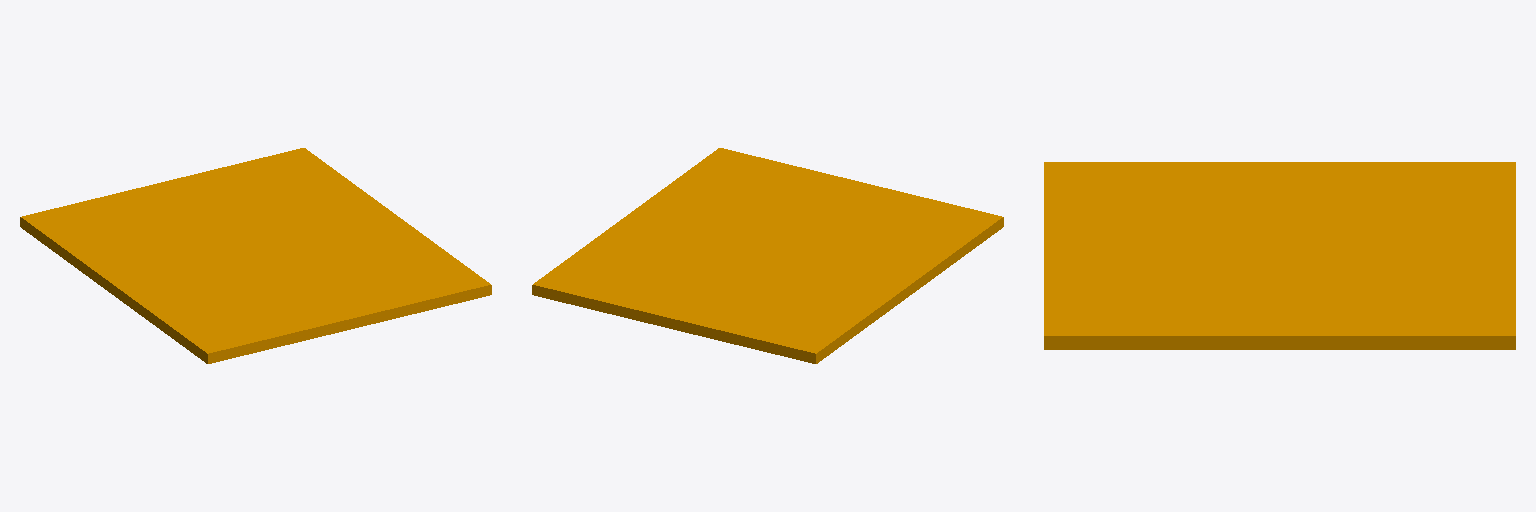
URDF robot description (table):
<robot name="table">
  <link name="table">

    <!-- rosrun gazebo_ros spawn_model -file $(rospack find ur5_single_arm_tufts)/urdf/objects/table.urdf -urdf -x 0.5 -y -0 -z 0.75 -model table -->
    
    <inertial>
      <origin xyz="0.23 0 0.755" rpy="0 0 0" />
      <mass value="1"/>
      <inertia
        ixx="0.07" ixy="0.0" ixz="0.0"
        iyy="0.40" iyz="0.0"
        izz="0.33"/>
    </inertial>

    <visual>
      <geometry>
        <box size="1.4 1.6 0.05"/>
      </geometry>
    </visual>

    <collision>
      <geometry>
        <box size="1.4 1.6 0.05"/>
      </geometry>
    </collision>

  </link>

  <gazebo reference="table">
    <material>Gazebo/Wood</material>
  </gazebo> 

  <gazebo>
    <static>true</static>
  </gazebo>

</robot>

--- Facts derived from the render (not from the file) ---
The picture shows the robot from 3 angles, left to right: view 1: azimuth 30°, elevation 25°; view 2: azimuth 150°, elevation 25°; view 3: azimuth 270°, elevation 25°; orthographic projection.
Model table with 1 links and 0 joints (none), rooted at table, posed all joints at 0.
Visible links, largest first — view 1: table; view 2: table; view 3: table.
Boxes of the visible links, box(x1,y1,x2,y2) form: table: box(20, 148, 491, 363); table: box(532, 148, 1003, 363); table: box(1044, 162, 1515, 349).
Bounding box of the posed robot: 1.4 × 1.6 × 0.05 m (x, y, z).
Geometry: primitives only (box / cylinder / sphere), no mesh files.
